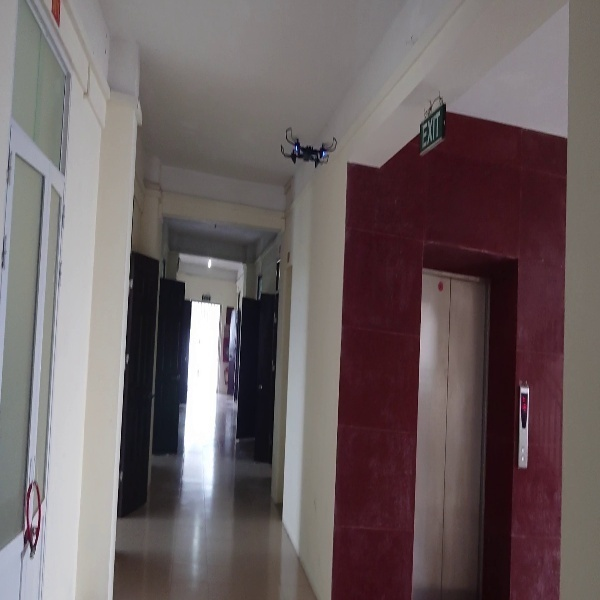drone: (265, 123, 342, 176)
